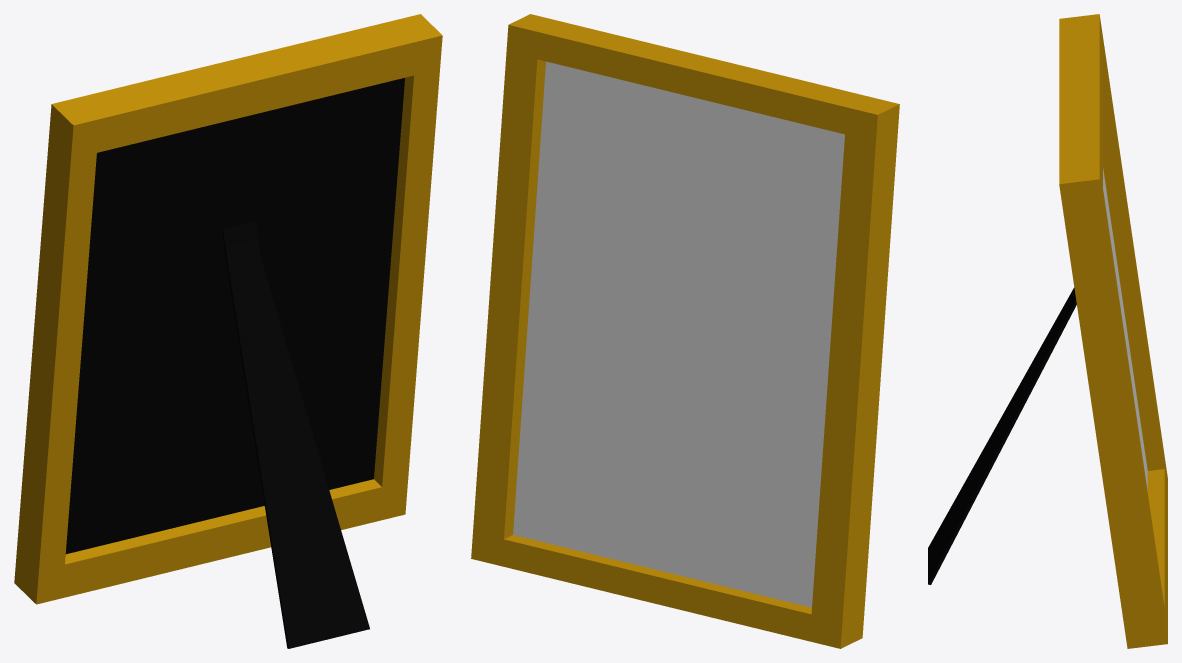
File: Photo_Frame.fbx
The picture shows the model from 3 angles, left to right: view 1: azimuth 30°, elevation 25°; view 2: azimuth 150°, elevation 25°; view 3: azimuth 270°, elevation 25°; orthographic projection. The views are drawn at different scales.
Parts seen in each view (by area): view 1: Photo_Frame; view 2: Photo_Frame; view 3: Photo_Frame.
Part boxes in pixels (<box>): Photo_Frame: <box>14,14,442,648</box>; Photo_Frame: <box>471,14,899,648</box>; Photo_Frame: <box>928,14,1167,648</box>.
Bounding box in the file's own units: 0.1134 × 0.1505 × 0.0696.
